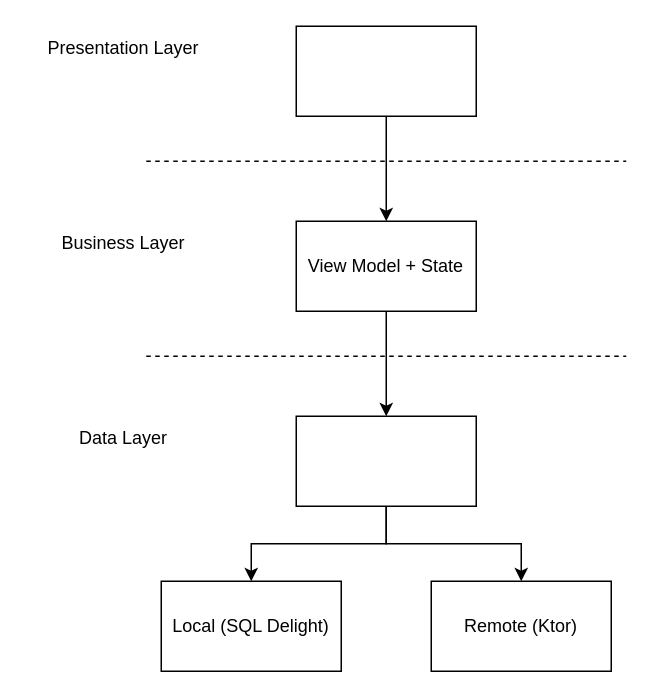
Image size: 654x698. Some labels were removed from this diagram. Here are the shapes that lost their labels. From the top down, the box of each, then its label:
(295, 25, 476, 116): UI Layer (Compose)
(295, 415, 476, 506): Repository
